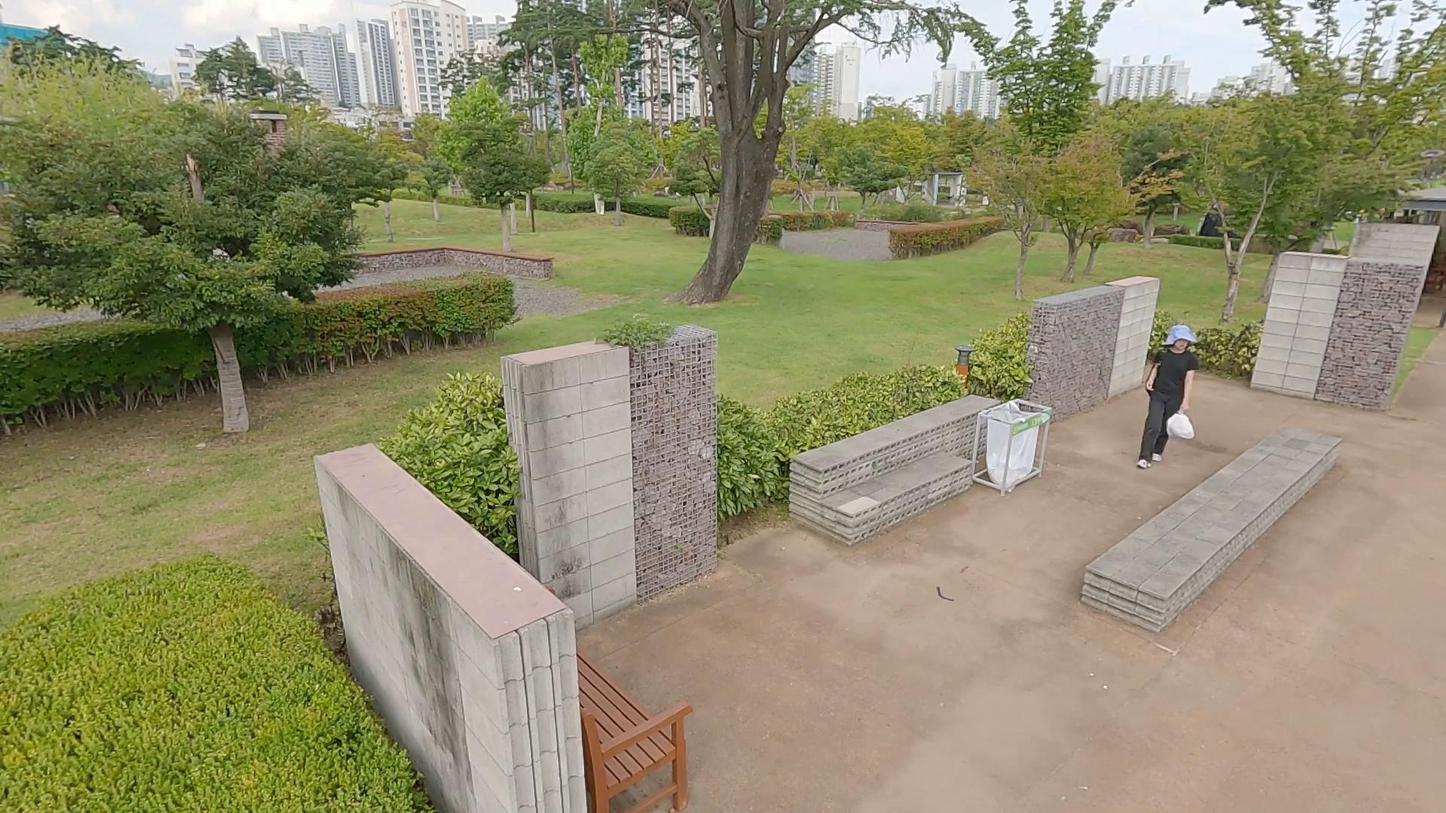person: (1136, 320, 1205, 472)
trash: (1167, 409, 1193, 440)
